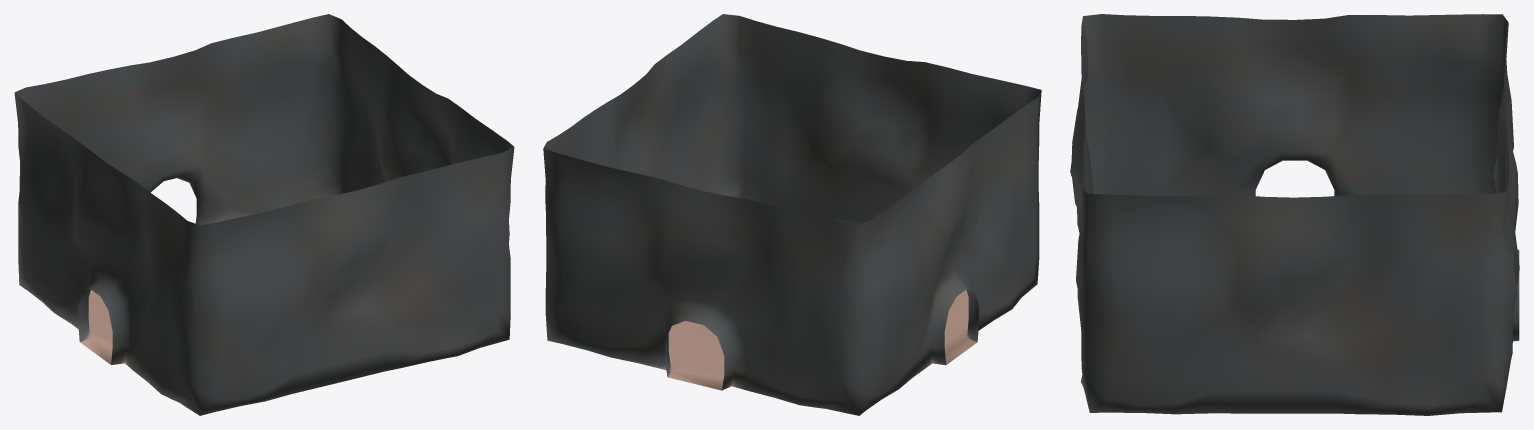
Rendered from AbyssMeshAnyDir.fbx.
3 views of the same model, side by side, from view 1: azimuth 30°, elevation 25°; view 2: azimuth 150°, elevation 25°; view 3: azimuth 270°, elevation 25° (orthographic). The views are drawn at different scales.
Parts seen in each view (by area): view 1: RoomMeshAnyDir; view 2: RoomMeshAnyDir; view 3: RoomMeshAnyDir.
Boxes of the visible parts, x1,y1,x2,y2 form: RoomMeshAnyDir: [14, 14, 514, 415]; RoomMeshAnyDir: [543, 14, 1041, 415]; RoomMeshAnyDir: [1070, 14, 1519, 415].
Size of the model in its own units: 1602 by 871 by 1602.
